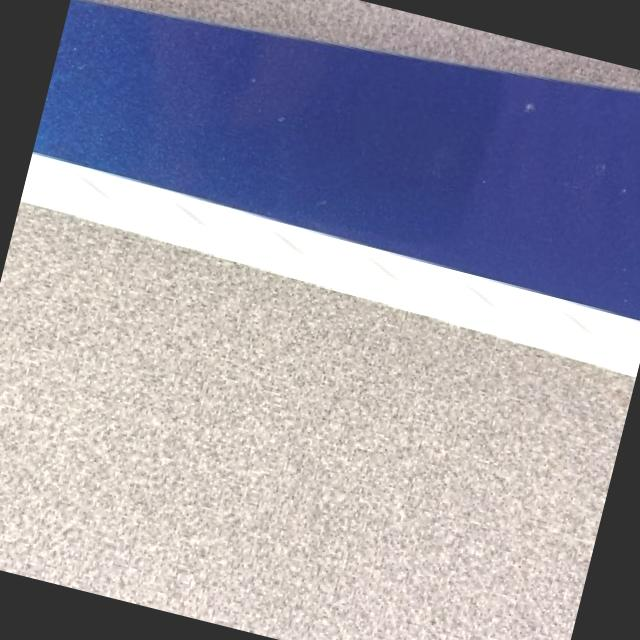healthy: (0, 204, 636, 640), (22, 0, 640, 373)
